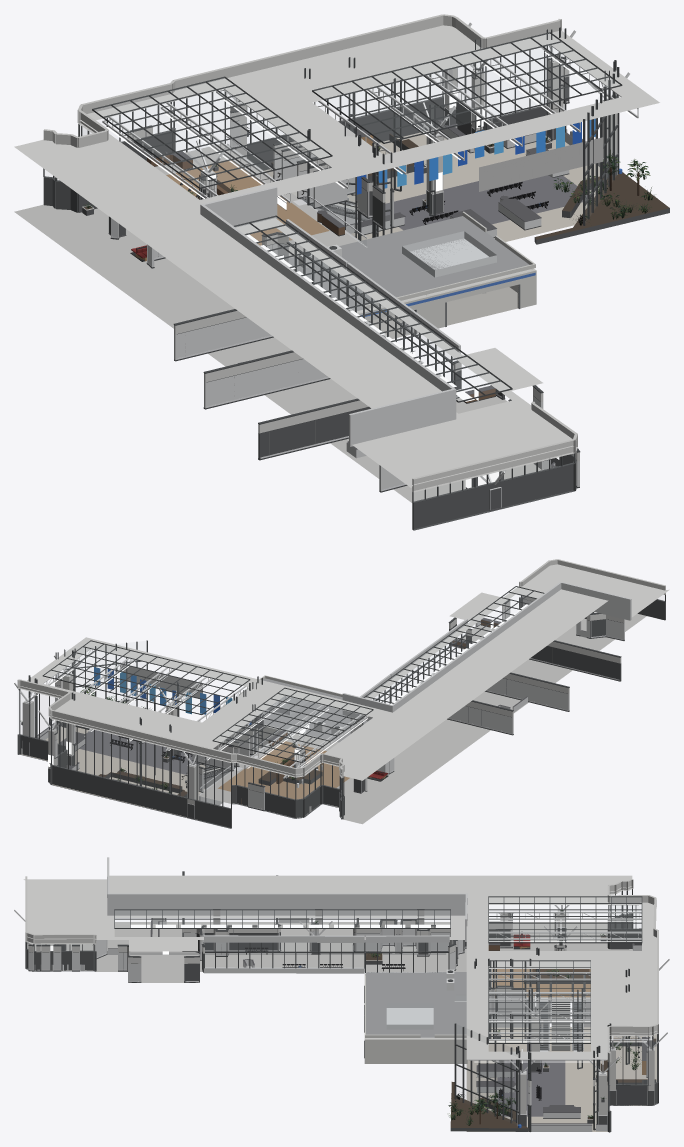
The model's file is T_East.glb.
The picture shows the model from 3 angles, top to bottom: view 1: azimuth 30°, elevation 25°; view 2: azimuth 150°, elevation 25°; view 3: azimuth 270°, elevation 25°; orthographic projection. The views are drawn at different scales.
Visible parts, largest first — view 1: ARCH_T_East, DENSE_T_East; view 2: ARCH_T_East, DENSE_T_East; view 3: ARCH_T_East, DENSE_T_East.
Boxes of the visible parts, x1,y1,x2,y2 form: ARCH_T_East: (14,14,669,530); DENSE_T_East: (85,127,657,261); ARCH_T_East: (14,559,669,828); DENSE_T_East: (20,683,388,793); ARCH_T_East: (14,857,669,1132); DENSE_T_East: (245,910,641,1125).
Size of the model in its own units: 78.85 by 14.04 by 103.
